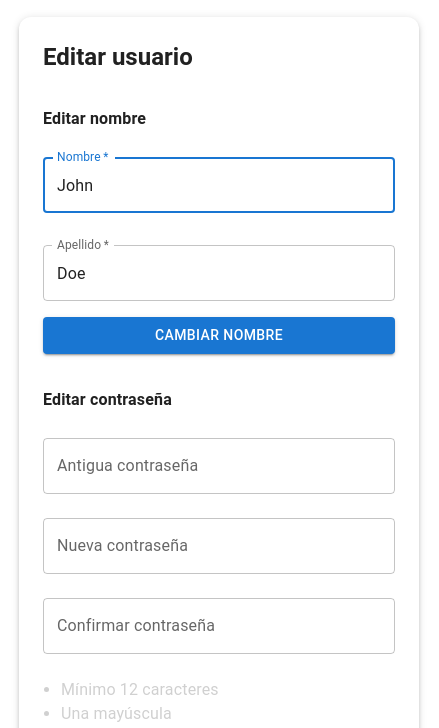
Scenario: UserEdit › updates the name and shows a success message
Replace the text in the field labelled "Nombre *" with "Jonathan": (219, 185) x1=43 y1=157 x2=395 y2=213
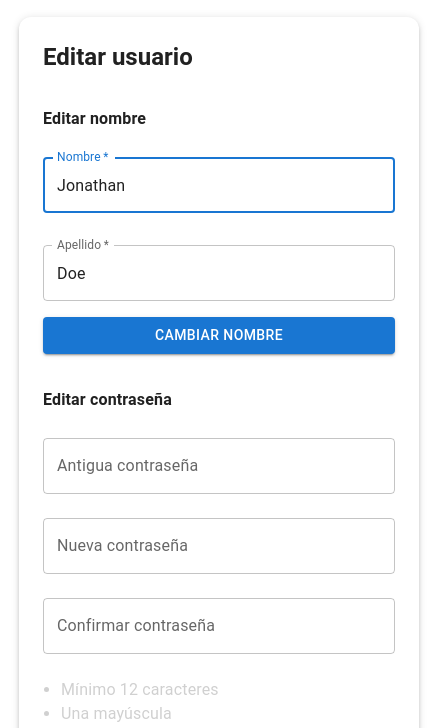
Click the button "Cambiar nombre": (219, 335) x1=43 y1=317 x2=395 y2=354
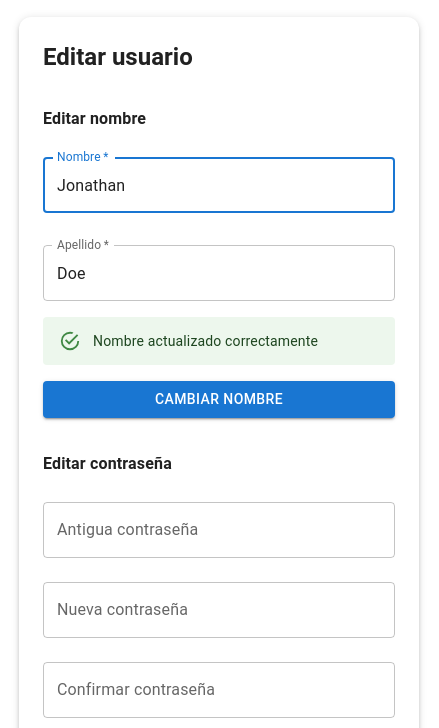
Expected: the text "Nombre actualizado correctamente" is shown, x1=93 y1=333 x2=318 y2=349
